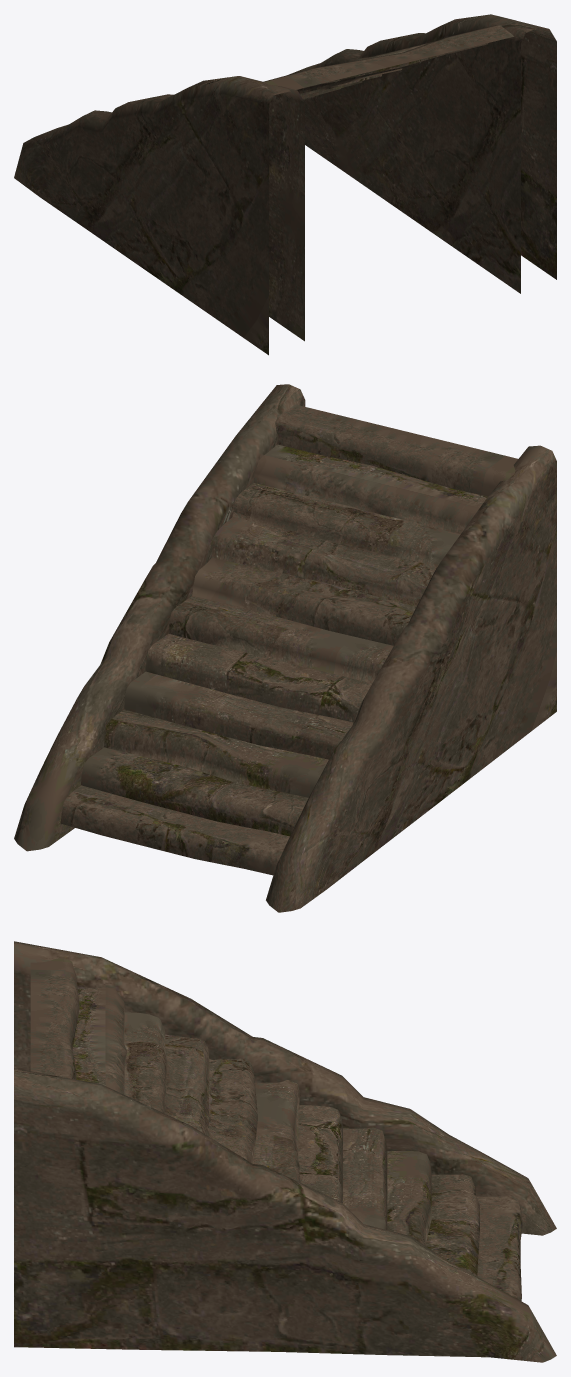
File: Stairs_.fbx
3 renders of one model, top to bottom at view 1: azimuth 30°, elevation 25°; view 2: azimuth 150°, elevation 25°; view 3: azimuth 270°, elevation 25°, orthographic. The views are drawn at different scales.
Visible parts, largest first — view 1: stairs_LOD0:stairs_LOD0_0; view 2: stairs_LOD0:stairs_LOD0_0; view 3: stairs_LOD0:stairs_LOD0_0.
Part boxes in pixels (box(x1,y1,x2,y2)): stairs_LOD0:stairs_LOD0_0: box(14, 14, 556, 355); stairs_LOD0:stairs_LOD0_0: box(14, 384, 556, 912); stairs_LOD0:stairs_LOD0_0: box(14, 941, 556, 1362).
Bounding box in the file's own units: 2.84 × 2.53 × 4.38.
Materials: 1 (1 with a texture image).
